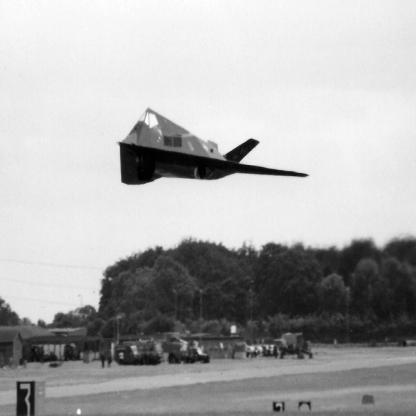F117: (117, 108, 311, 186)
